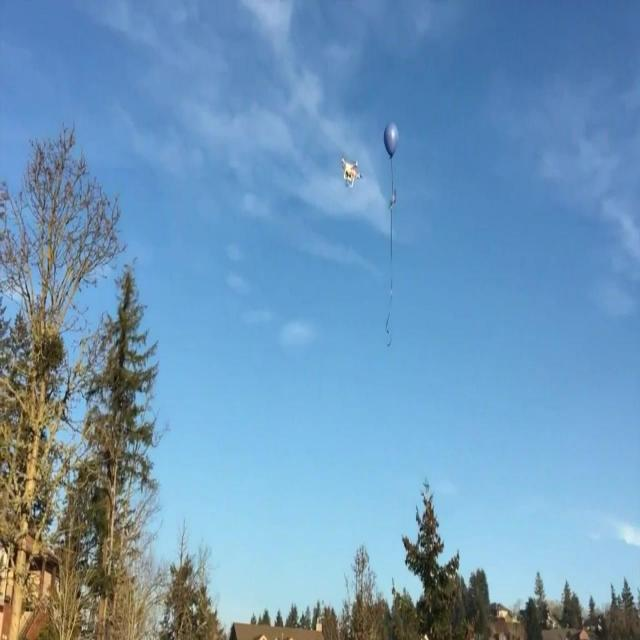UAV: (342, 156, 362, 186)
